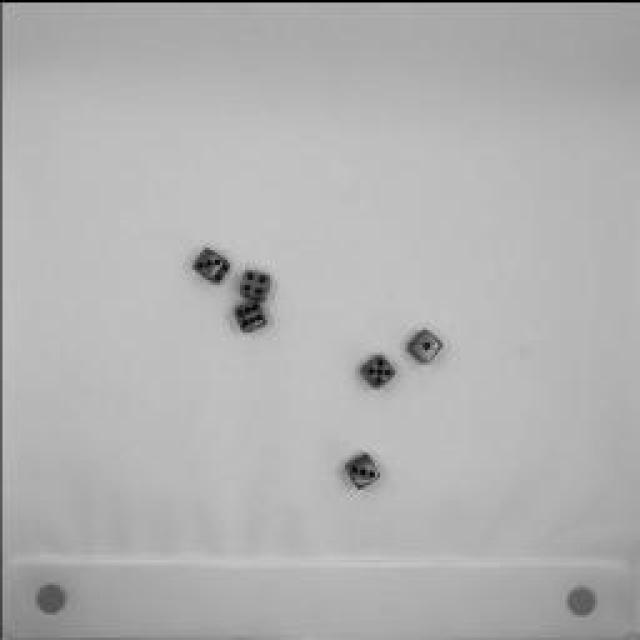dice_1: (402, 320, 448, 370)
dice_3: (340, 442, 390, 492), (187, 240, 235, 285)
dice_4: (229, 261, 279, 301)
dice_5: (351, 350, 404, 390)
dice_6: (229, 295, 269, 335)
